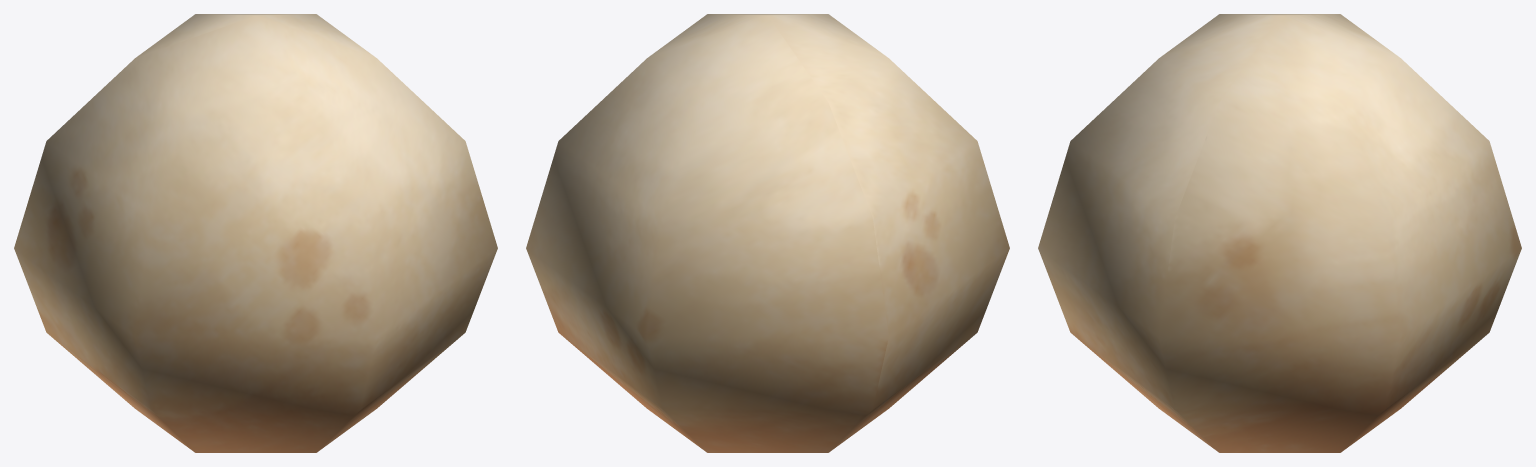
File: discrab_egg.fbx
The picture shows the model from 3 angles, left to right: view 1: azimuth 30°, elevation 25°; view 2: azimuth 150°, elevation 25°; view 3: azimuth 270°, elevation 25°; orthographic projection.
Visible parts, largest first — view 1: discrab_egg; view 2: discrab_egg; view 3: discrab_egg.
Part boxes in pixels (<box>): discrab_egg: <box>14,14,497,452</box>; discrab_egg: <box>526,14,1009,452</box>; discrab_egg: <box>1038,14,1521,452</box>.
Bounding box in the file's own units: 15.73 × 13.62 × 15.09.
